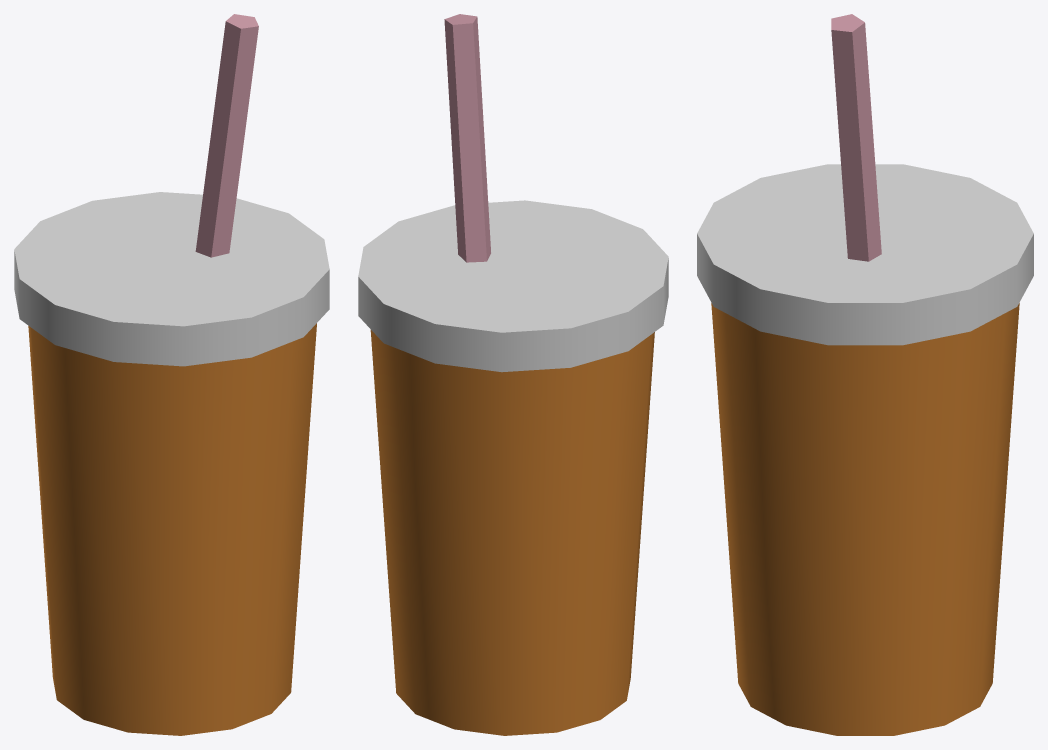
Rendered from item_juice.glb.
3 renders of one model, left to right at view 1: azimuth 30°, elevation 25°; view 2: azimuth 150°, elevation 25°; view 3: azimuth 270°, elevation 25°, orthographic. The views are drawn at different scales.
Visible parts, largest first — view 1: item_juice; view 2: item_juice; view 3: item_juice.
Part boxes in pixels (bbox=[...]): item_juice: bbox=[14, 14, 329, 735]; item_juice: bbox=[358, 14, 668, 735]; item_juice: bbox=[697, 14, 1033, 735].
Bounding box in the file's own units: 0.0877 × 0.2046 × 0.09.
